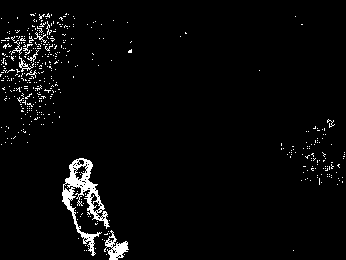person: (56, 156, 128, 260)
